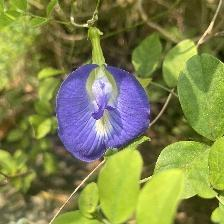shankupushpam: (55, 62, 153, 164)
